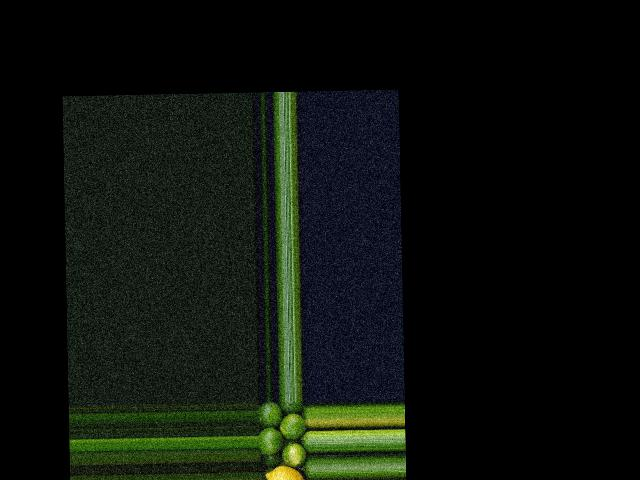lemon: (264, 464, 308, 480)
